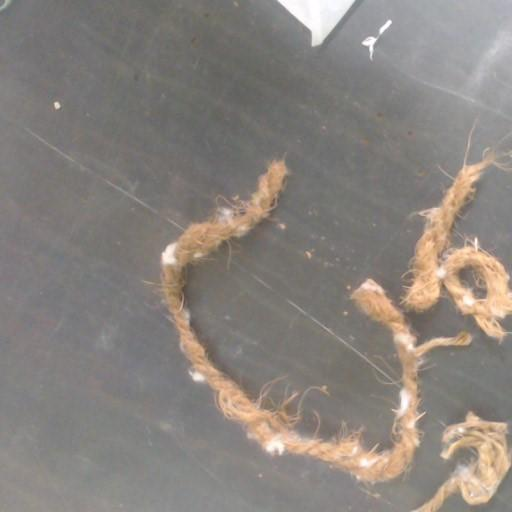conveyor belt: (0, 0, 511, 511)
jute: (172, 279, 470, 481), (402, 156, 511, 340), (163, 161, 286, 301), (408, 159, 489, 308), (415, 413, 510, 511)
